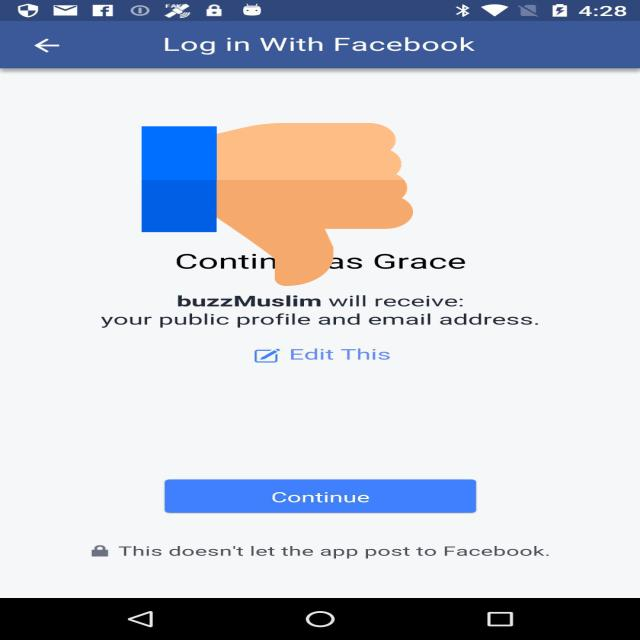obstruction: (142, 119, 413, 290)
